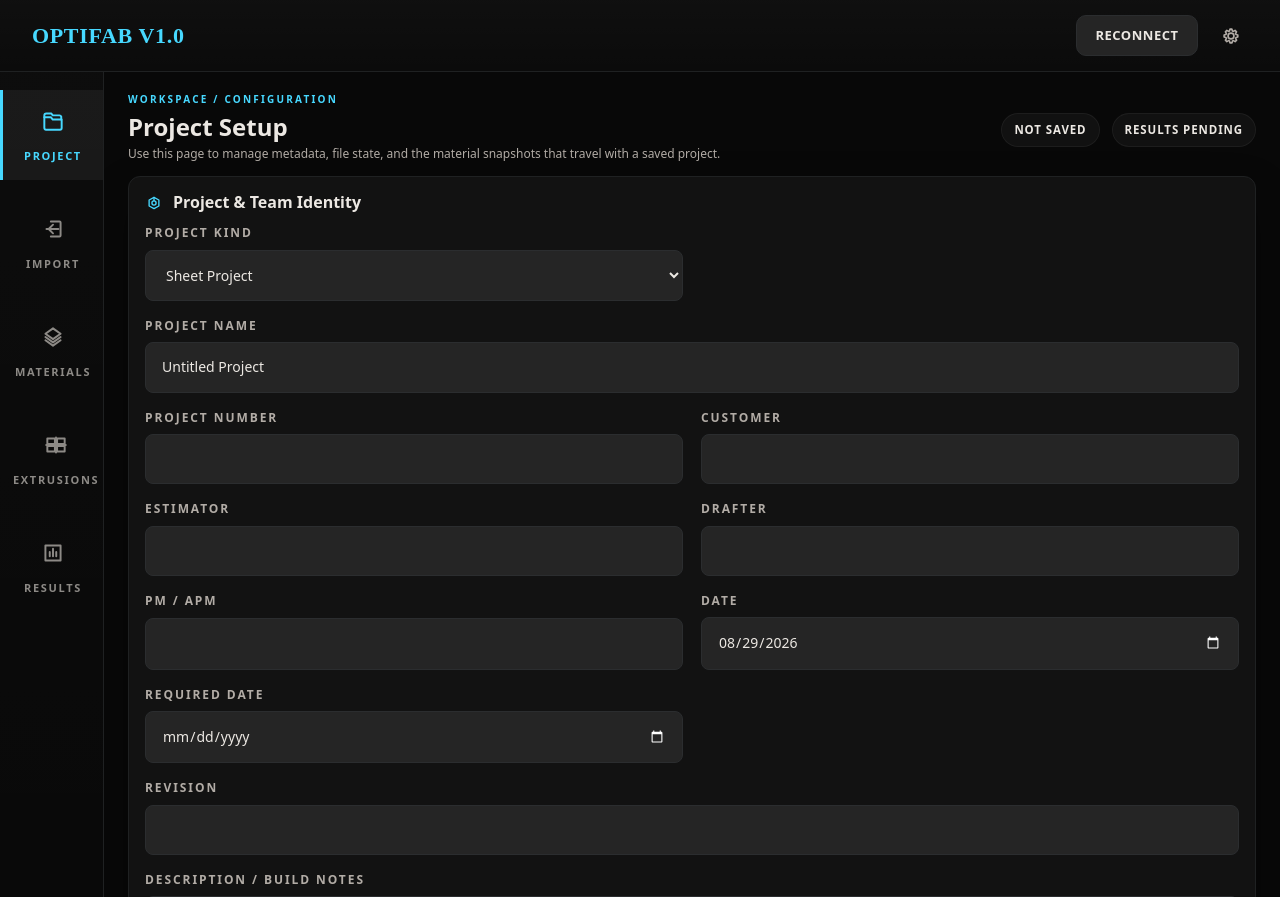
it: Project Kind lifecycle › uses the shared entry-import empty state for a blank Sheet Project
The image size is (1280, 897).
Click the button "Import": (52, 243) [0,198,103,288]
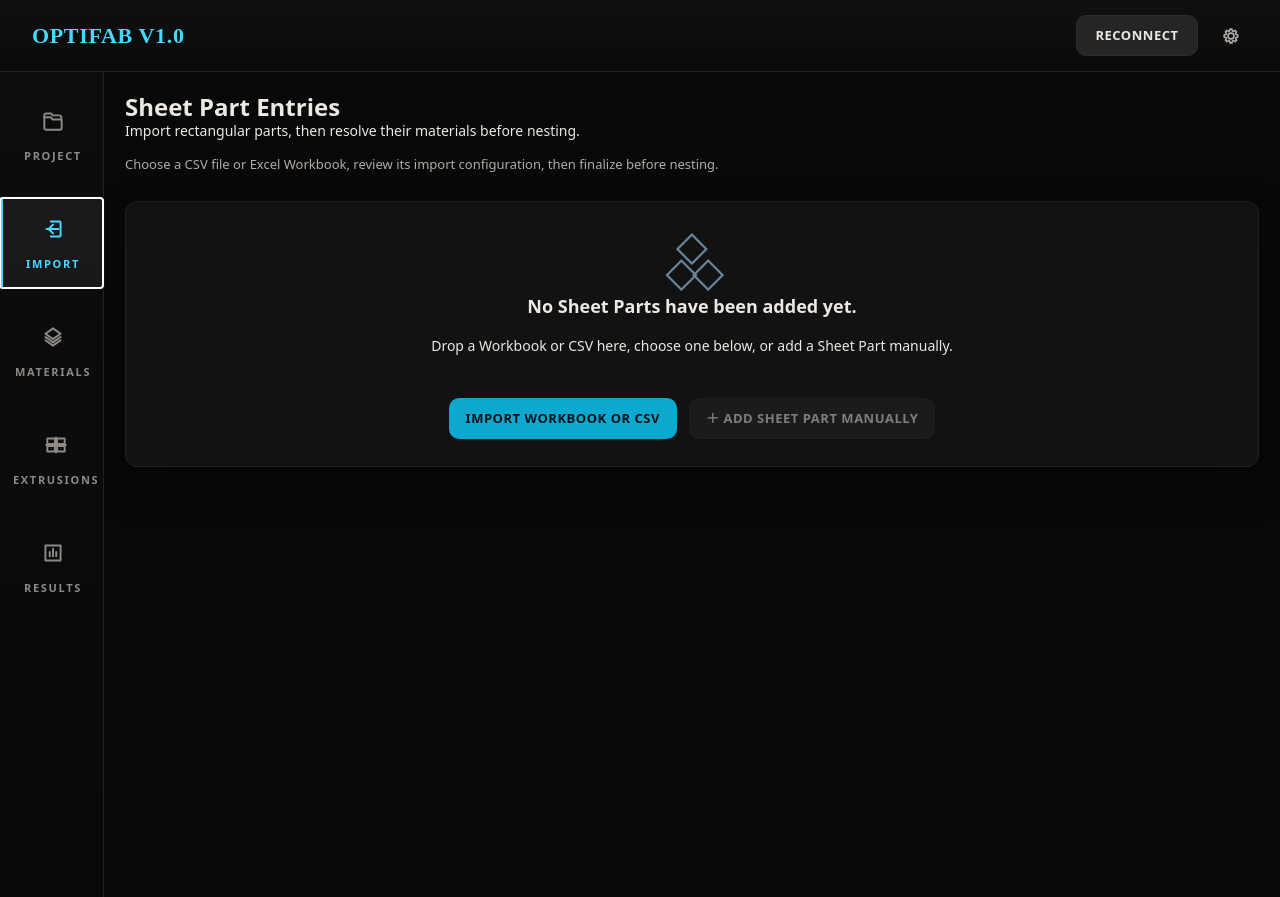
expect the heading "Sheet Part Entries" is shown: met, box [125,93,340,121]
expect the element named "Import Sheet Parts" is shown: met, box [125,201,1259,467]
expect the heading "No Sheet Parts have been added yet." is shown: met, box [527,296,857,318]
